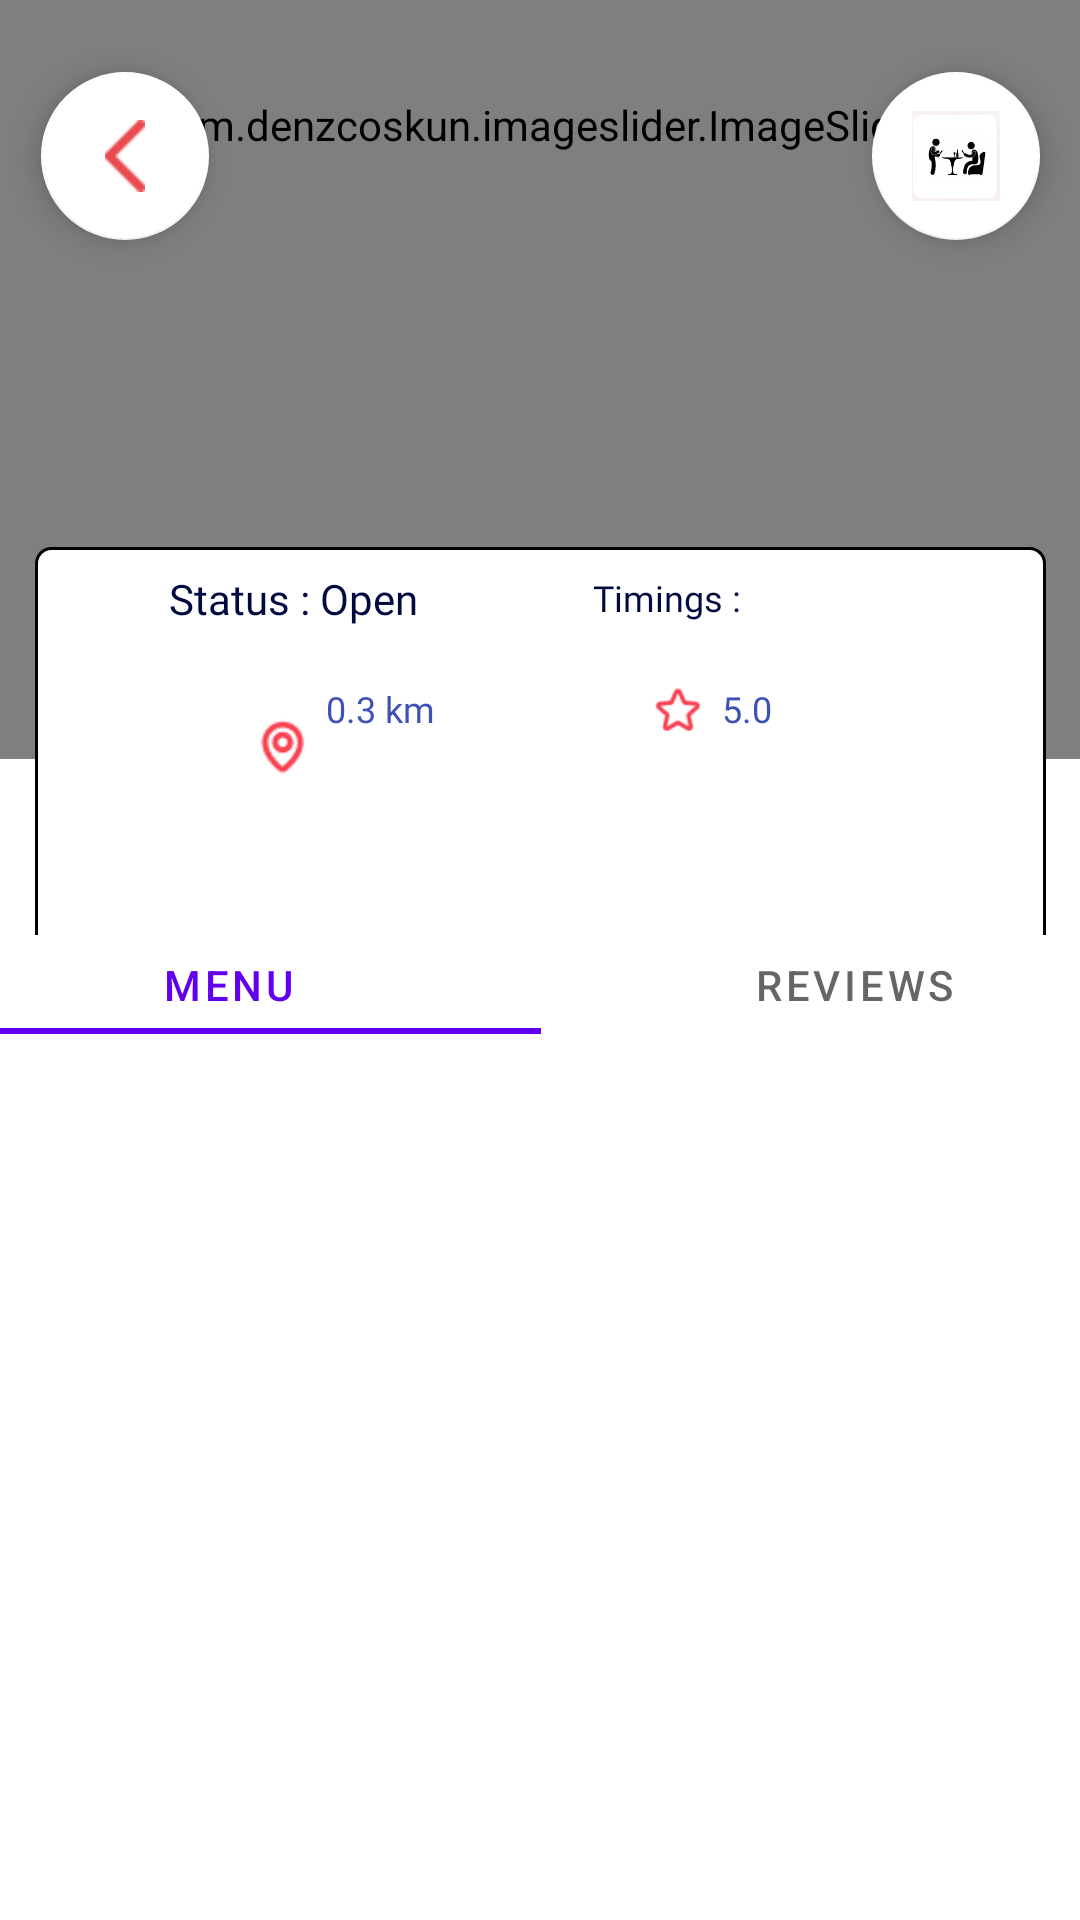

Icon bounding boxes for this 1080px×1920px phone screenshot, format (x1, y1, x2, y2):
back: (41, 72, 209, 240)
reservation: (872, 72, 1040, 240)
